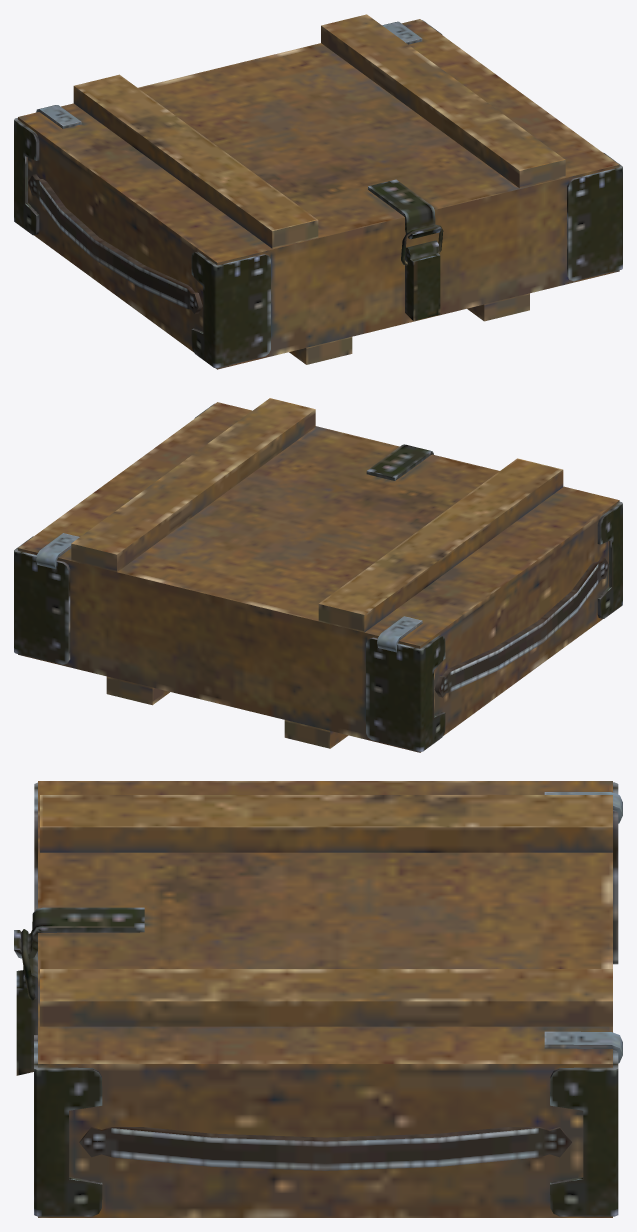
The model's file is sm26_020_ammobox01a.fbx.
3 views of the same model, one above another, from view 1: azimuth 30°, elevation 25°; view 2: azimuth 150°, elevation 25°; view 3: azimuth 270°, elevation 25° (orthographic). The views are drawn at different scales.
Visible parts, largest first — view 1: LOD_1_Group_0_Sub_1__sm26_020_AmmoBox01A_A_Mat__Env_Default; view 2: LOD_1_Group_0_Sub_1__sm26_020_AmmoBox01A_A_Mat__Env_Default; view 3: LOD_1_Group_0_Sub_1__sm26_020_AmmoBox01A_A_Mat__Env_Default.
Boxes of the visible parts, box(x1,y1,x2,y2) form: LOD_1_Group_0_Sub_1__sm26_020_AmmoBox01A_A_Mat__Env_Default: box(14, 14, 622, 369); LOD_1_Group_0_Sub_1__sm26_020_AmmoBox01A_A_Mat__Env_Default: box(14, 398, 622, 752); LOD_1_Group_0_Sub_1__sm26_020_AmmoBox01A_A_Mat__Env_Default: box(14, 781, 622, 1217).
Bounding box in the file's own units: 0.5264 × 0.1601 × 0.4312.
